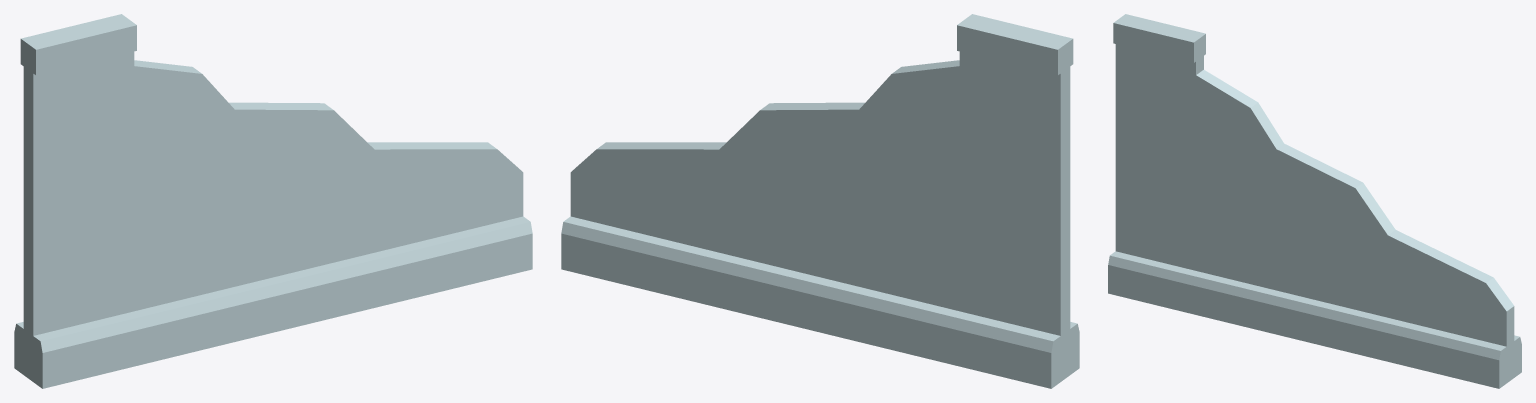
Rendered from stoneWallDamaged.glb.
3 views of the same model, side by side, from view 1: azimuth 30°, elevation 25°; view 2: azimuth 150°, elevation 25°; view 3: azimuth 330°, elevation 25° (orthographic). The views are drawn at different scales.
Parts seen in each view (by area): view 1: stoneWallDamaged; view 2: stoneWallDamaged; view 3: stoneWallDamaged.
Boxes of the visible parts, x1,y1,x2,y2 form: stoneWallDamaged: (14,14,532,388); stoneWallDamaged: (561,14,1079,388); stoneWallDamaged: (1108,14,1521,388).
Bounding box in the file's own units: 1 × 0.6519 × 0.1.
